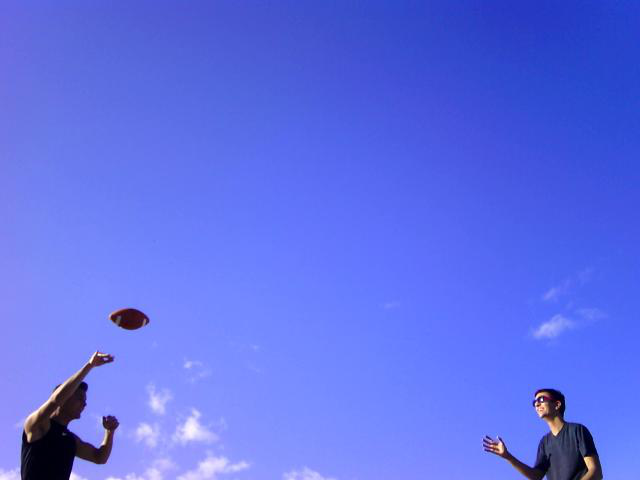football: (107, 307, 150, 332)
